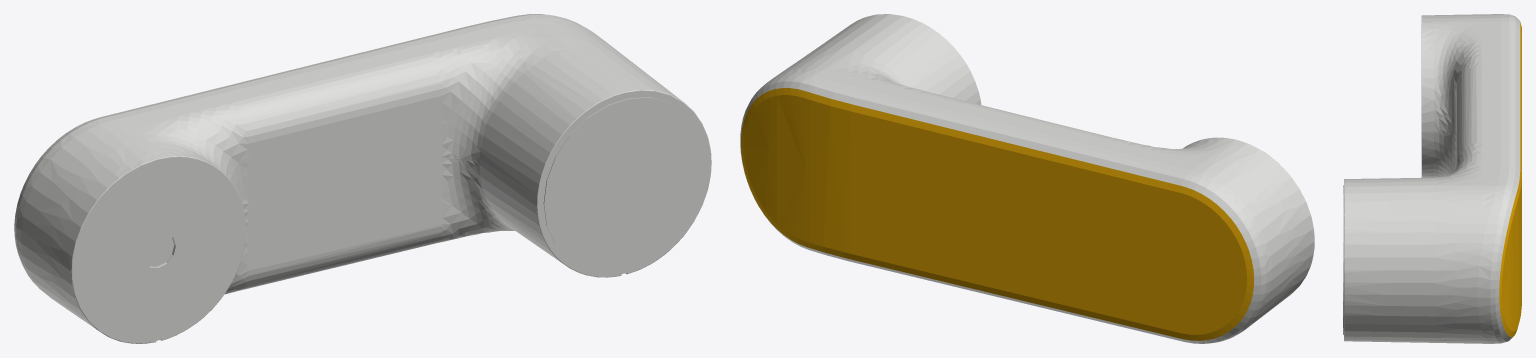
The picture shows the model from 3 angles, left to right: view 1: azimuth 30°, elevation 25°; view 2: azimuth 150°, elevation 25°; view 3: azimuth 270°, elevation 25°; orthographic projection. The views are drawn at different scales.
Parts seen in each view (by area): view 1: Link; view 2: Link; view 3: Link.
Part boxes in pixels (bbox=[...]): Link: bbox=[14, 14, 711, 343]; Link: bbox=[740, 14, 1314, 343]; Link: bbox=[1343, 14, 1521, 343].
Size of the model in its own units: 0.2113 by 0.064 by 0.0683.
